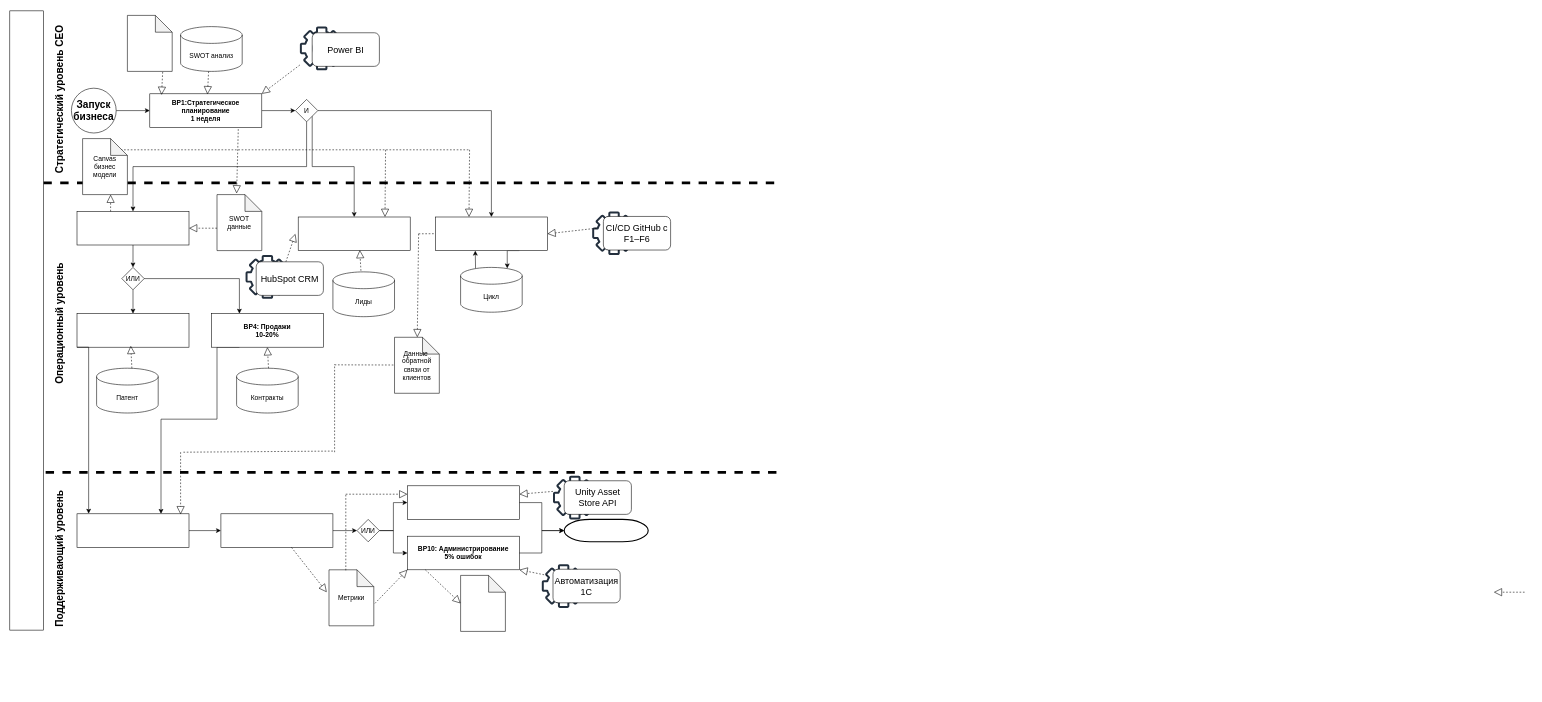
The diagram is 1542 pixels wide and 702 high, and some of its shapes have lost their labels. The shapes that lost their labels are listed below. From the top down, each one's box as (x1, y1, x2, y2) in pixels, then its label:
(127, 15, 172, 71): Рыночные данные
(76, 211, 189, 245): BP2: Бизнес модель Canvas 1 неделя
(298, 216, 410, 251): BP3: Маркетинг 1000 лидов
(435, 216, 547, 251): BP5: Разработка 5-6 месяцев
(9, 10, 43, 630): Динамическая генерация мира при помощи нейросетей
(76, 313, 189, 347): BP6: Патентование (автоматизированное патентирование)
(407, 485, 519, 519): BP9: Партнерства риск -50%
(76, 513, 189, 547): BP7: Поддержка
(220, 513, 333, 547): BP8: Аналитика
(563, 519, 648, 542): Ограниченная выручка
(460, 575, 505, 631): Финансовые отчеты
